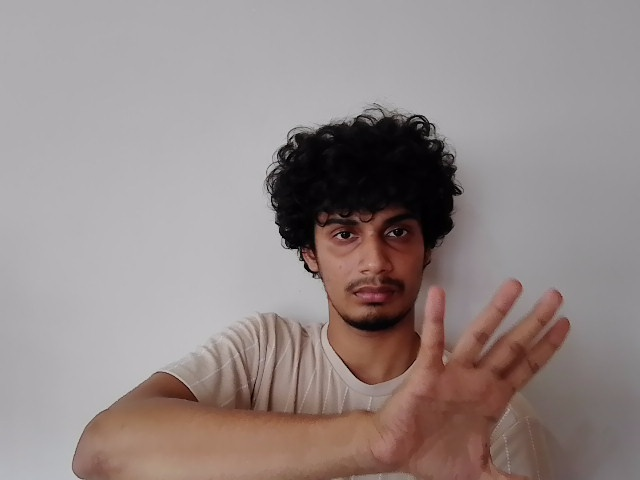goodbye: (386, 280, 575, 477)
